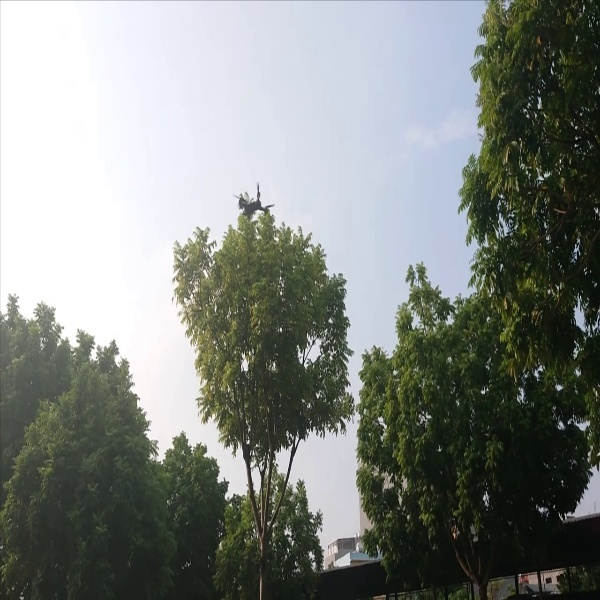drone: (231, 182, 279, 228)
